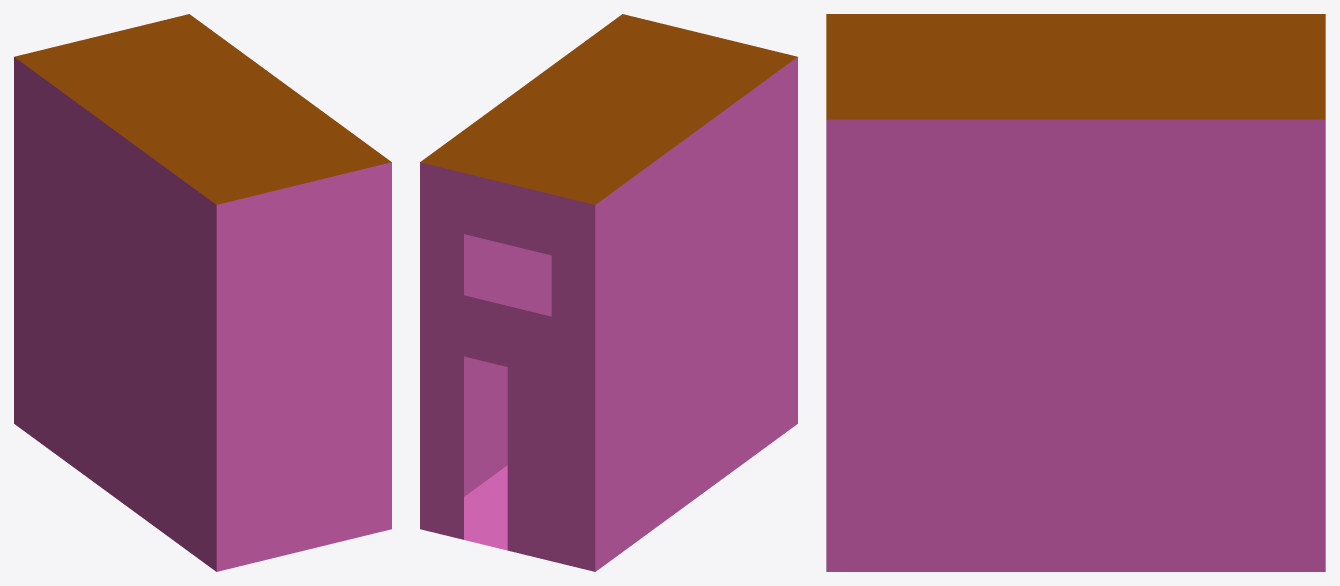
The model's file is pink.gltf.
3 renders of one model, left to right at view 1: azimuth 30°, elevation 25°; view 2: azimuth 150°, elevation 25°; view 3: azimuth 270°, elevation 25°, orthographic. The views are drawn at different scales.
Parts seen in each view (by area): view 1: Cube; view 2: Cube; view 3: Cube.
Boxes of the visible parts, box(x1,y1,x2,y2) form: Cube: box(14, 14, 391, 571); Cube: box(420, 14, 797, 571); Cube: box(826, 14, 1325, 571).
Bounding box in the file's own units: 2 × 4 × 4.
